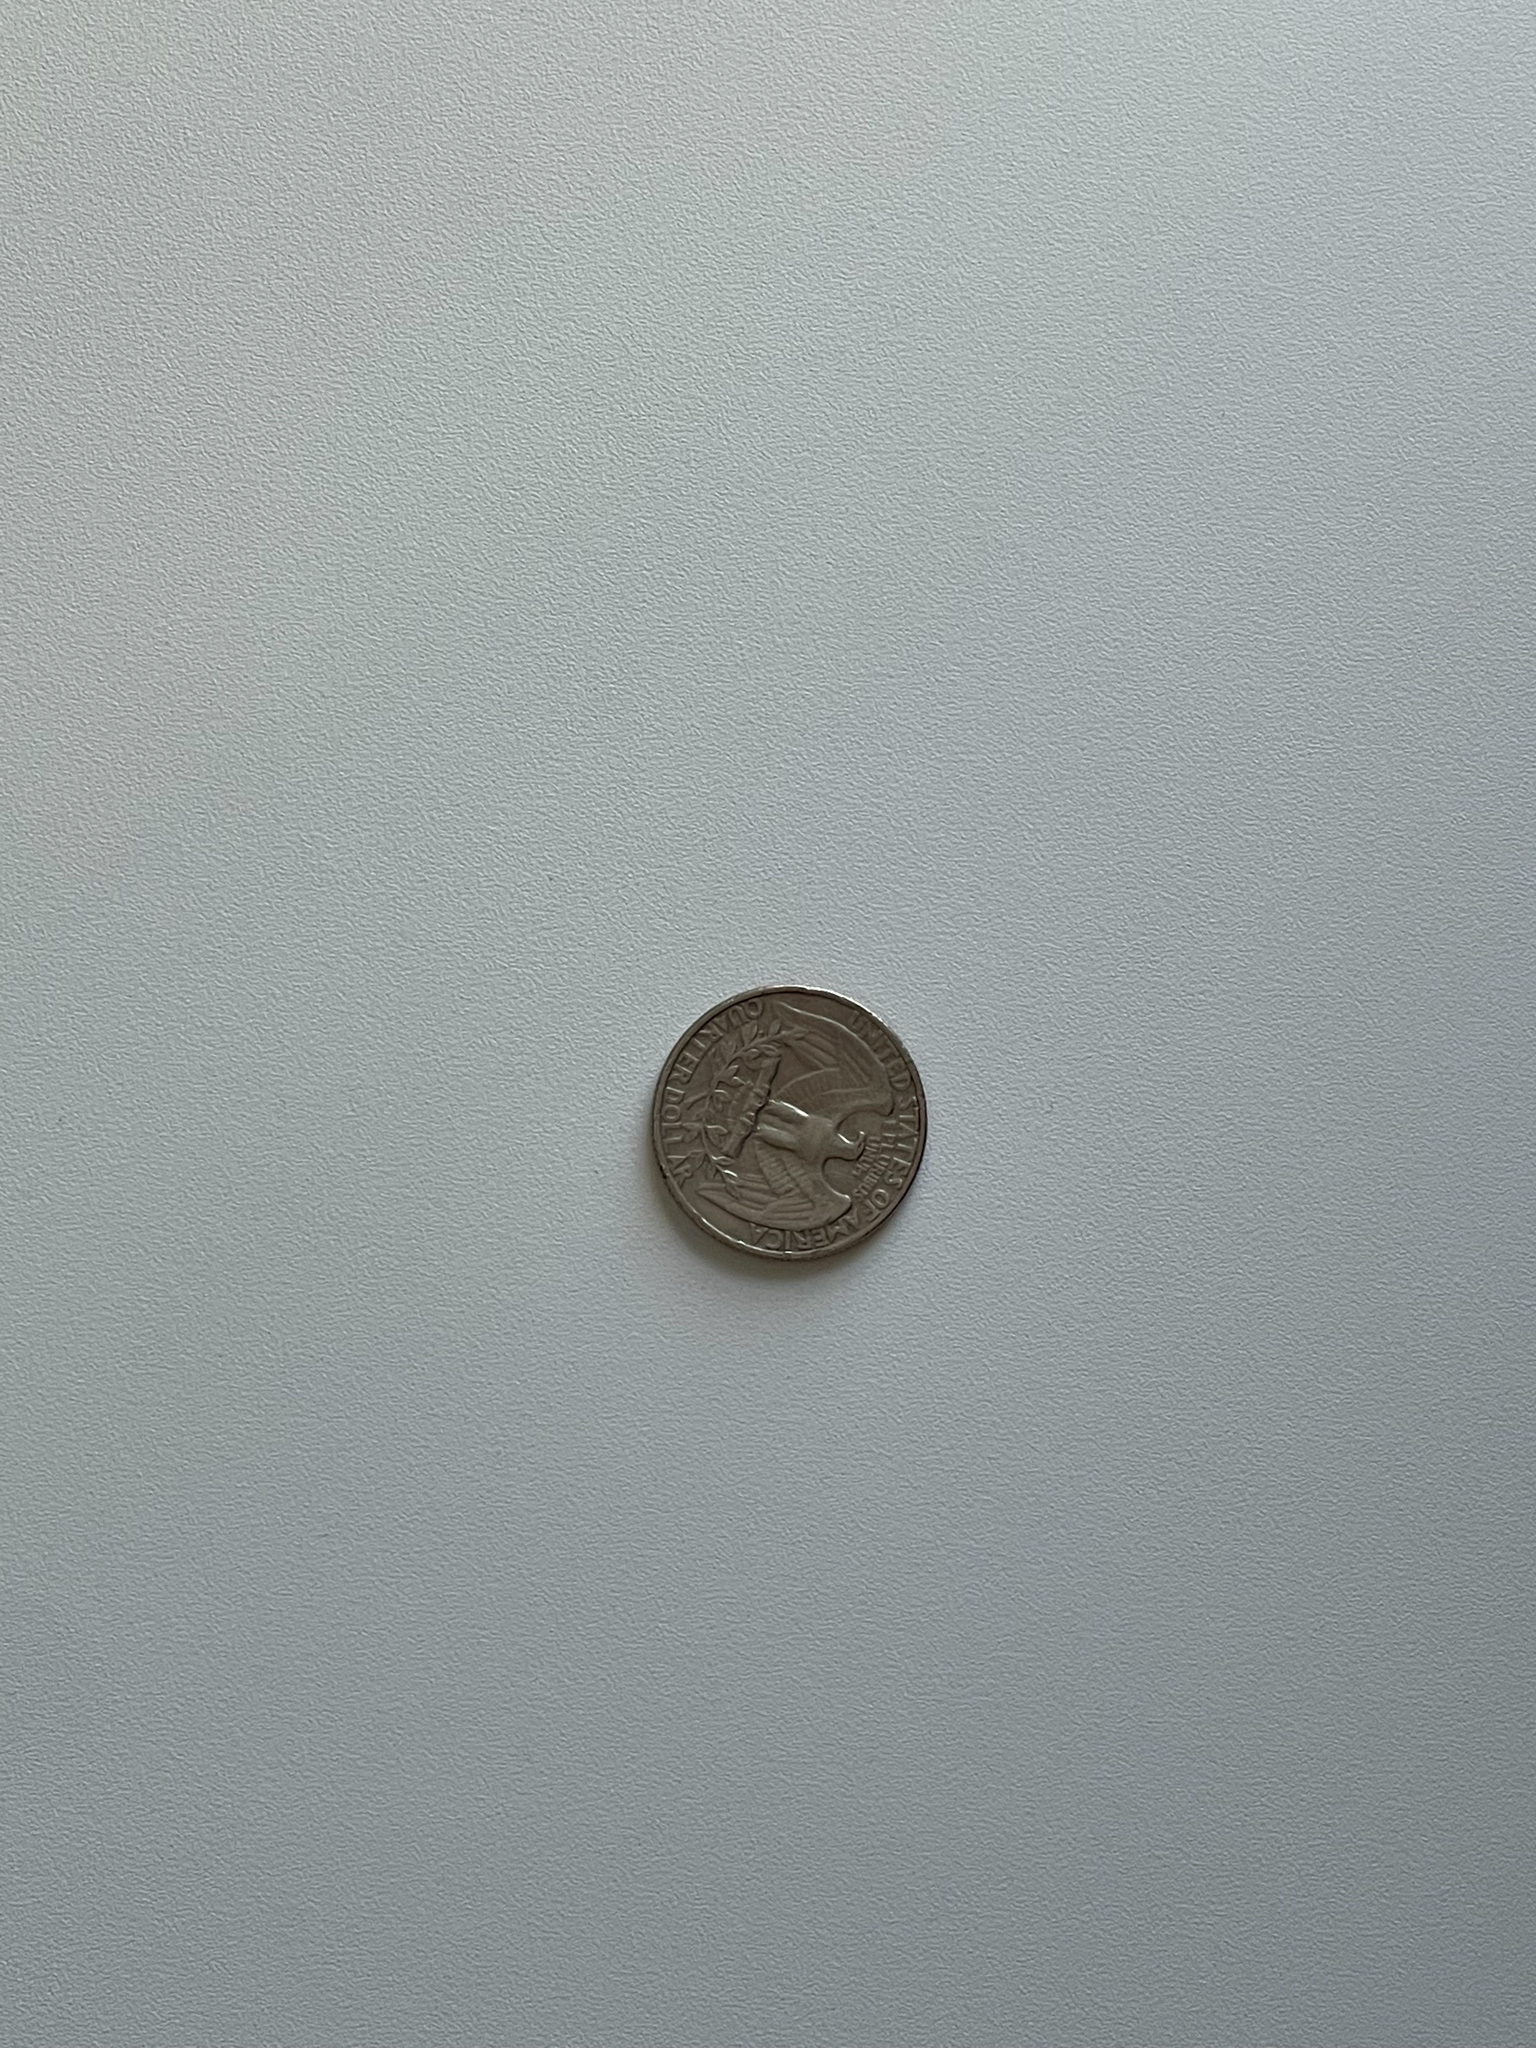quarter: (637, 980, 941, 1274)
